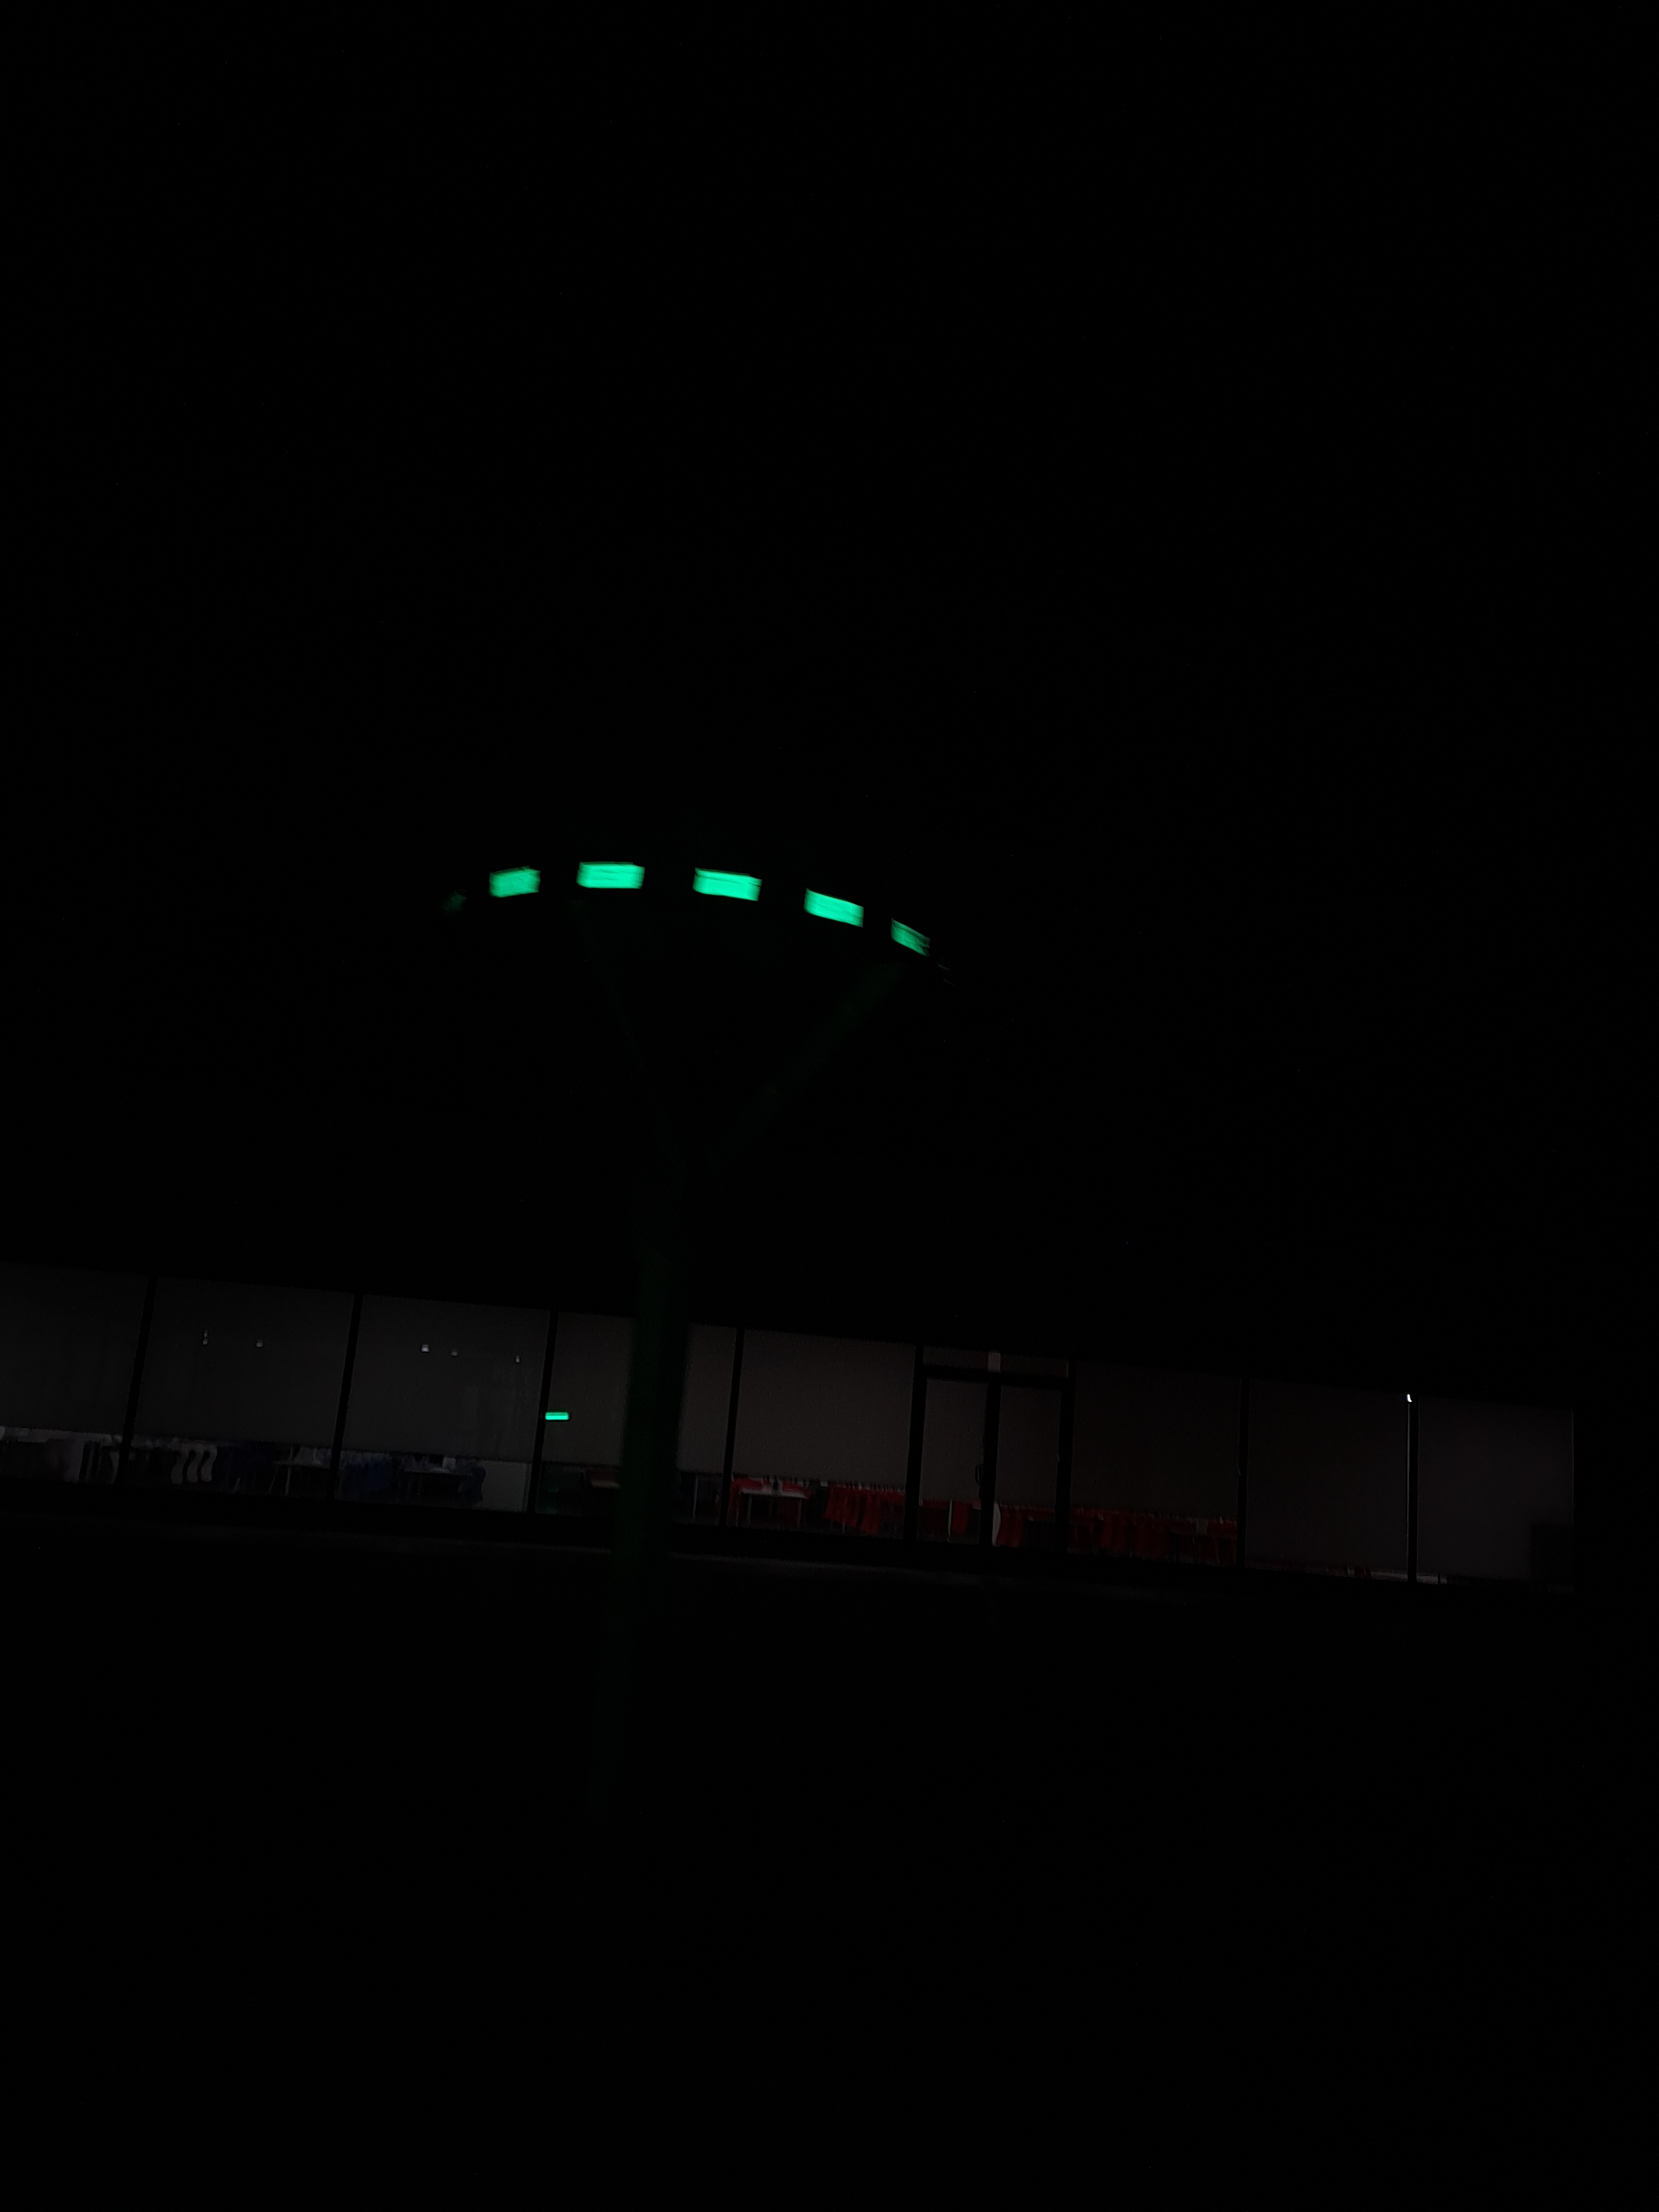hoop: (481, 850, 945, 958)
